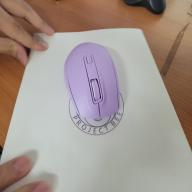mouse: (61, 42, 122, 120)
